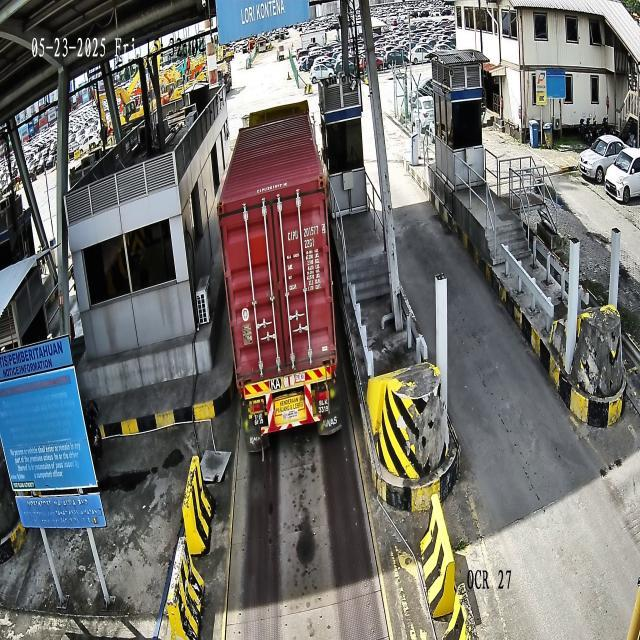ISO: (303, 236, 316, 252)
container_number: (286, 221, 331, 243)
